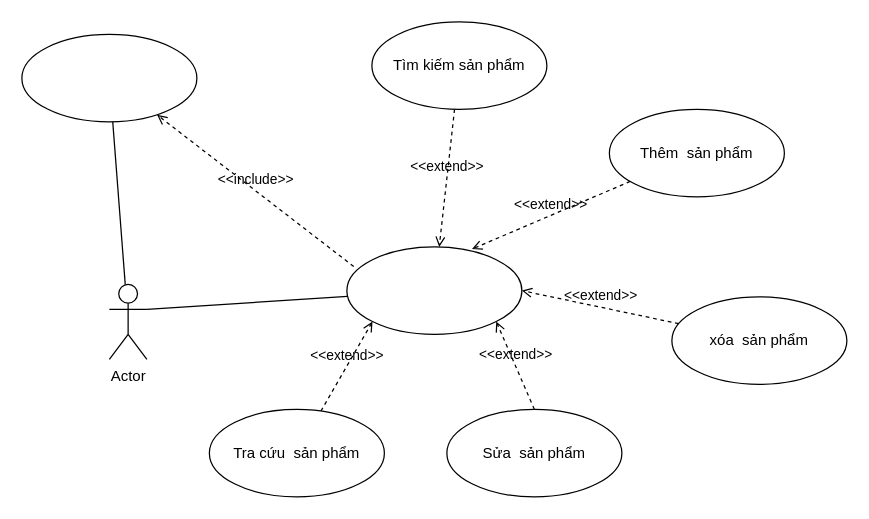
The diagram is 869 pixels wide and 519 high, and some of its shapes have lost their labels. Here are the shapes that lost their labels. From the top down, the centre of each, then its label:
At (109,77): "Đăng nhập".
At (434,290): "QL sản phẩm".
